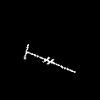treble_crochet: (24, 44, 74, 72)
